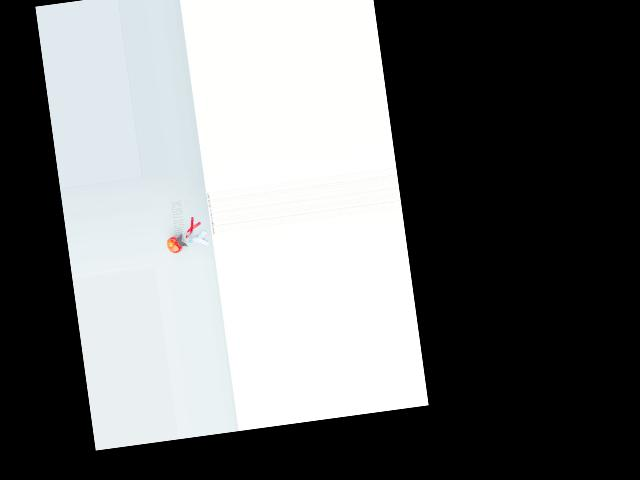tomato: (166, 234, 184, 253)
